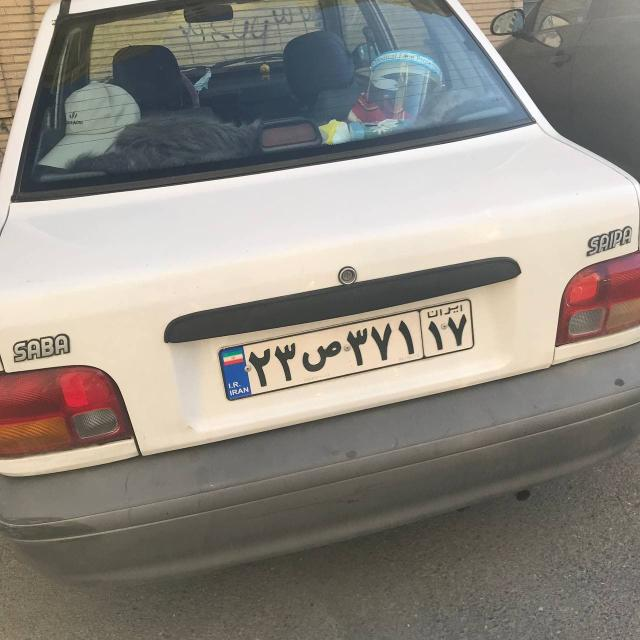Plates: (217, 295, 480, 402)
